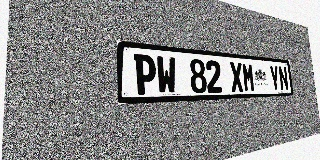2: (205, 60, 222, 93)
8: (189, 58, 207, 93)
M: (242, 63, 255, 92)
N: (278, 66, 289, 91)
P: (134, 54, 157, 95)
W: (156, 56, 177, 94)
X: (229, 62, 244, 92)
Y: (269, 65, 280, 91)
